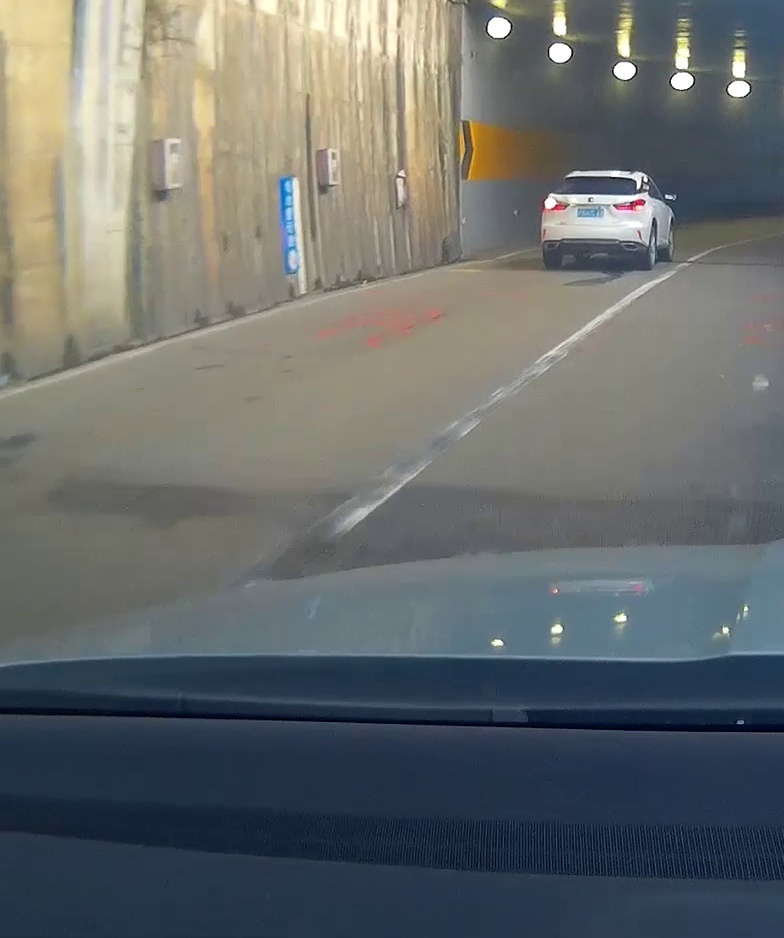L_light: (543, 199, 569, 211)
R_light: (613, 198, 646, 210)
T_light: (591, 177, 608, 181)
day-left: (541, 171, 647, 270)
